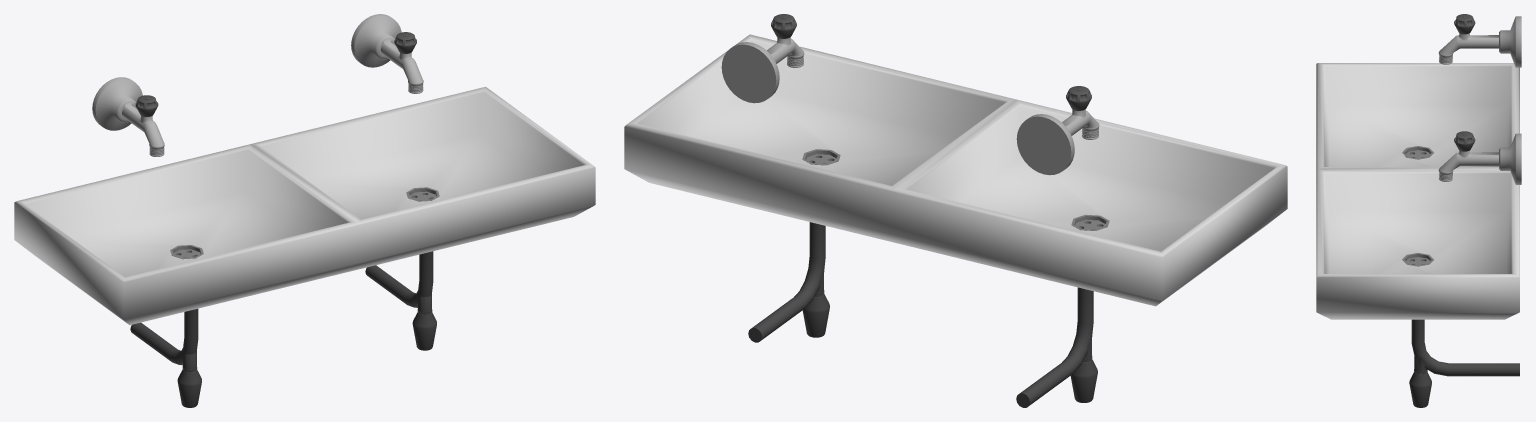
Rendered from double-bathroom-sink.glb.
The picture shows the model from 3 angles, left to right: view 1: azimuth 30°, elevation 25°; view 2: azimuth 150°, elevation 25°; view 3: azimuth 270°, elevation 25°; orthographic projection. The views are drawn at different scales.
Visible parts, largest first — view 1: Object_108, Object_107; view 2: Object_108, Object_107; view 3: Object_108, Object_107.
Boxes of the visible parts, x1=… form: Object_108: x1=14, y1=86, x2=595, y2=407; Object_107: x1=92, y1=14, x2=439, y2=259; Object_108: x1=624, y1=34, x2=1287, y2=407; Object_107: x1=721, y1=14, x2=1109, y2=230; Object_108: x1=1316, y1=63, x2=1519, y2=407; Object_107: x1=1402, y1=14, x2=1521, y2=266.
Size of the model in its own units: 2 by 1.19 by 0.8116.
Materials: 2 (2 with a texture image).
